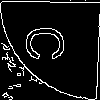C: (25, 25, 74, 62)
